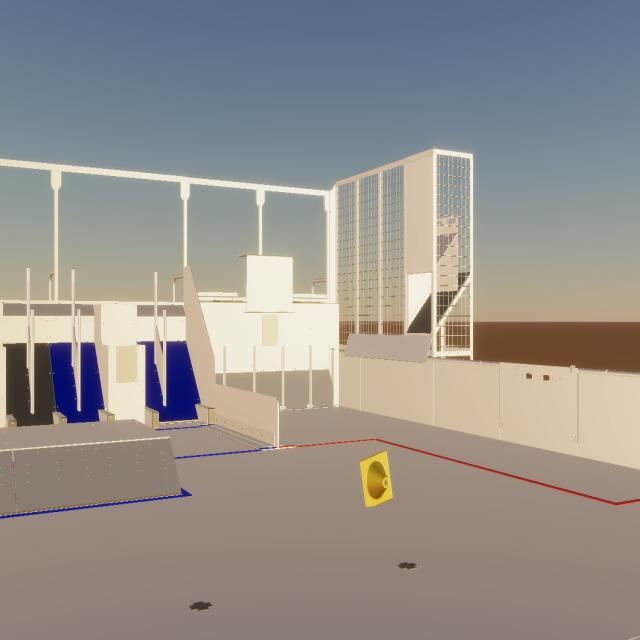frc_cone: (360, 450, 392, 507)
frc_cube: (13, 462, 16, 501)
